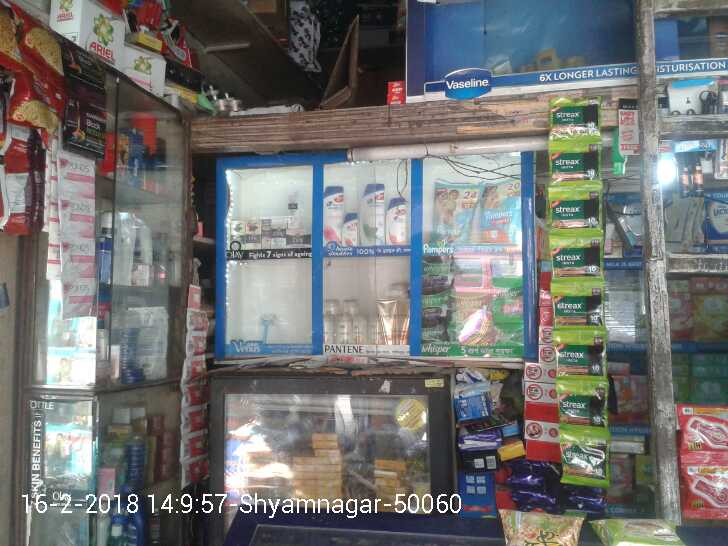venus: (258, 315, 279, 347)
